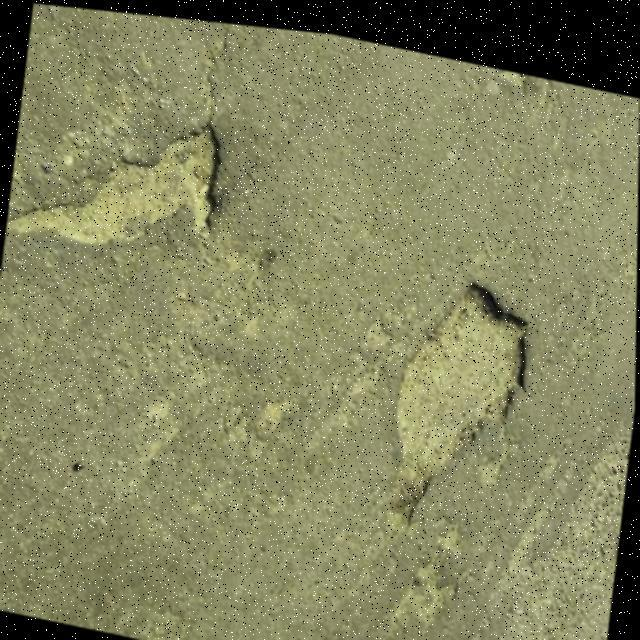pothole: (370, 247, 549, 550), (2, 71, 234, 299)
